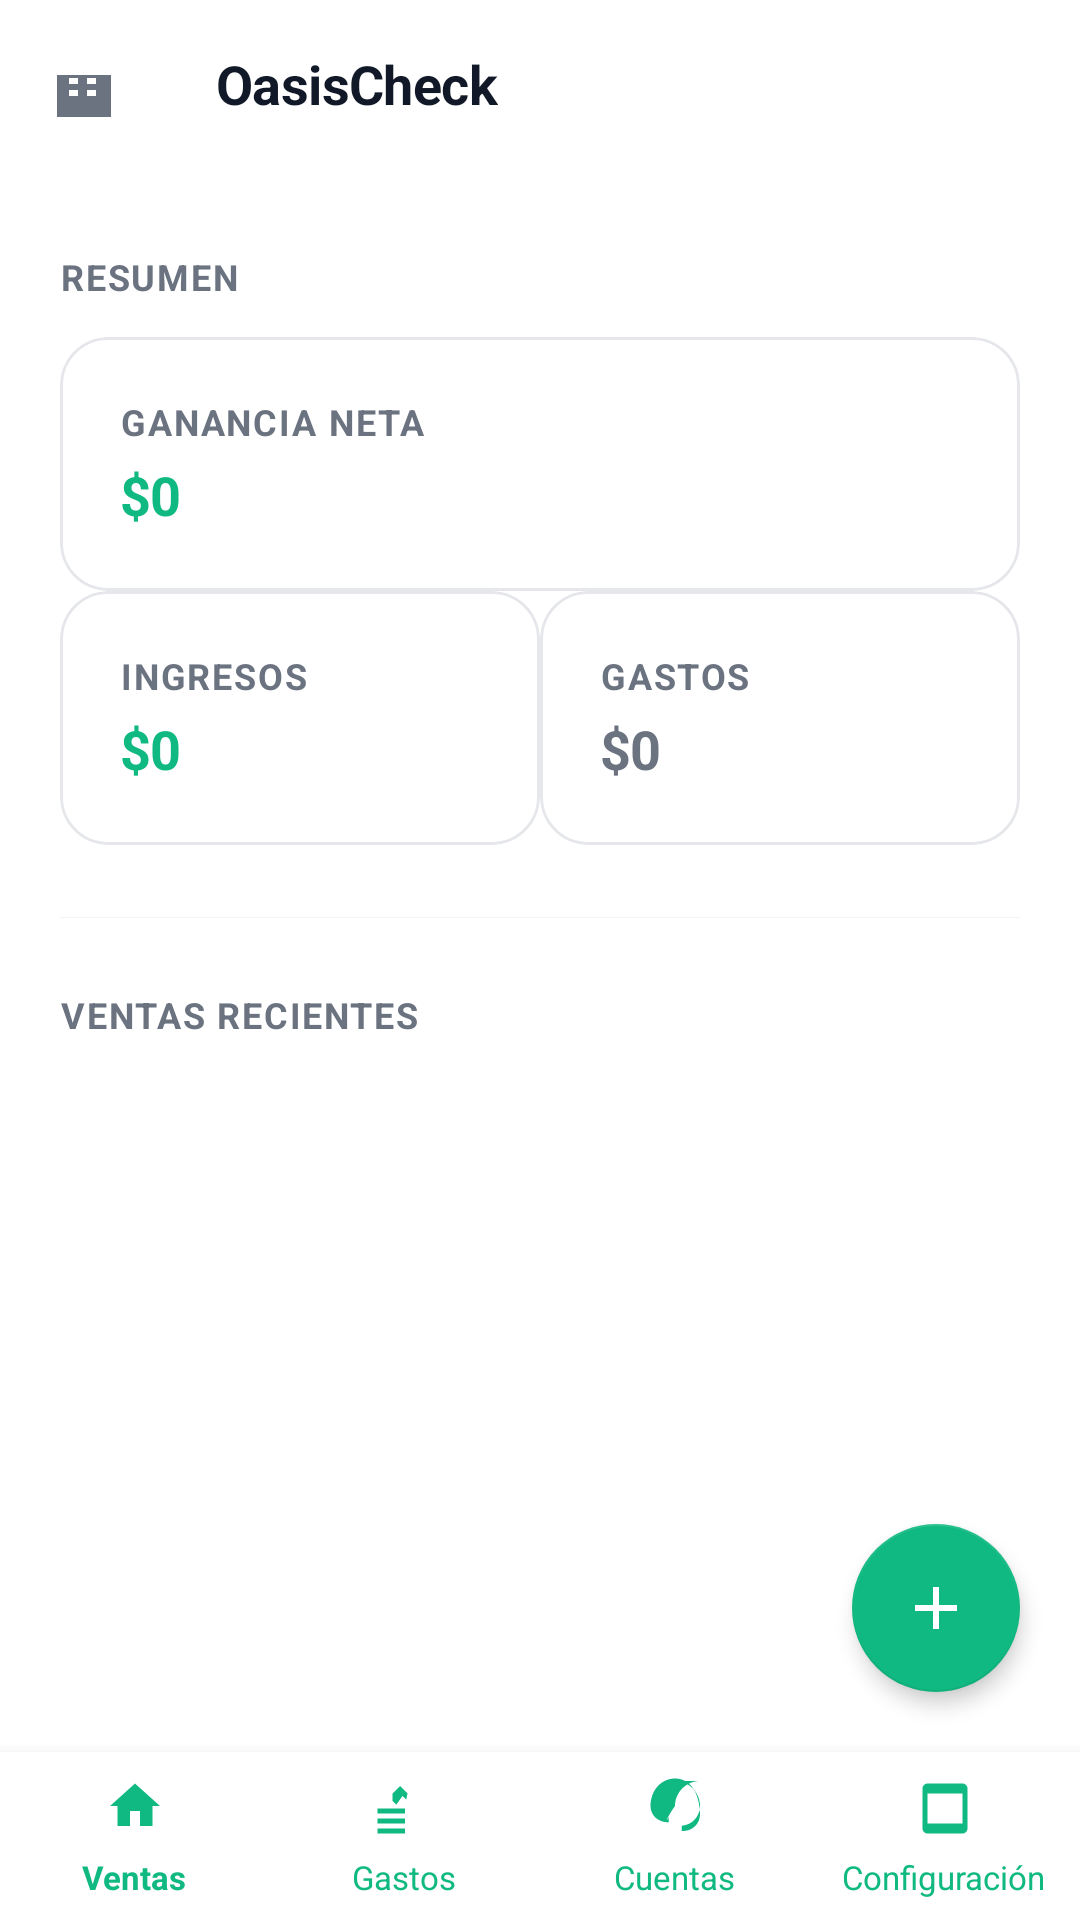

Icons on this 1080w x 1920h Android screen, each with the point to tap as (x=x, y=y):
Agregar venta: (x=936, y=1608)
